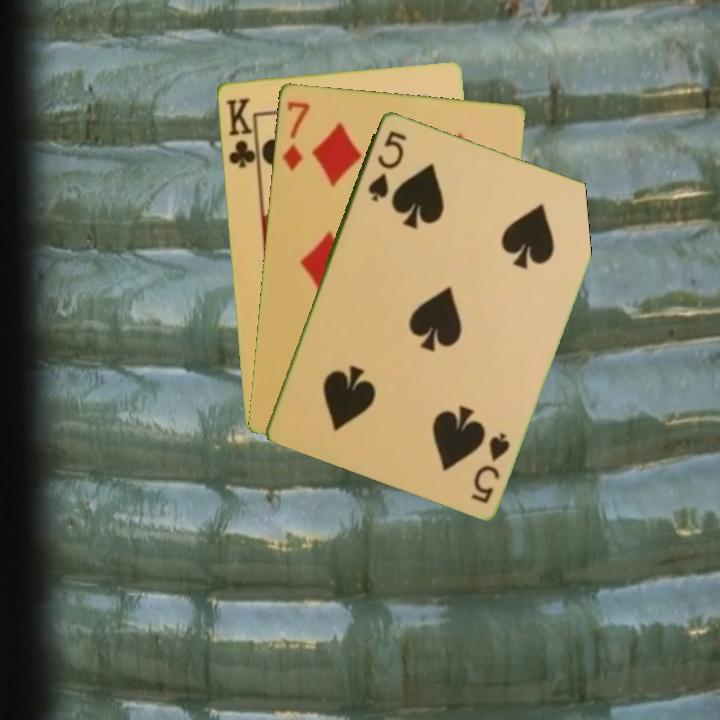5s: (364, 126, 410, 204), (467, 428, 513, 506)
7d: (278, 97, 313, 173)
Kc: (221, 94, 260, 172)
